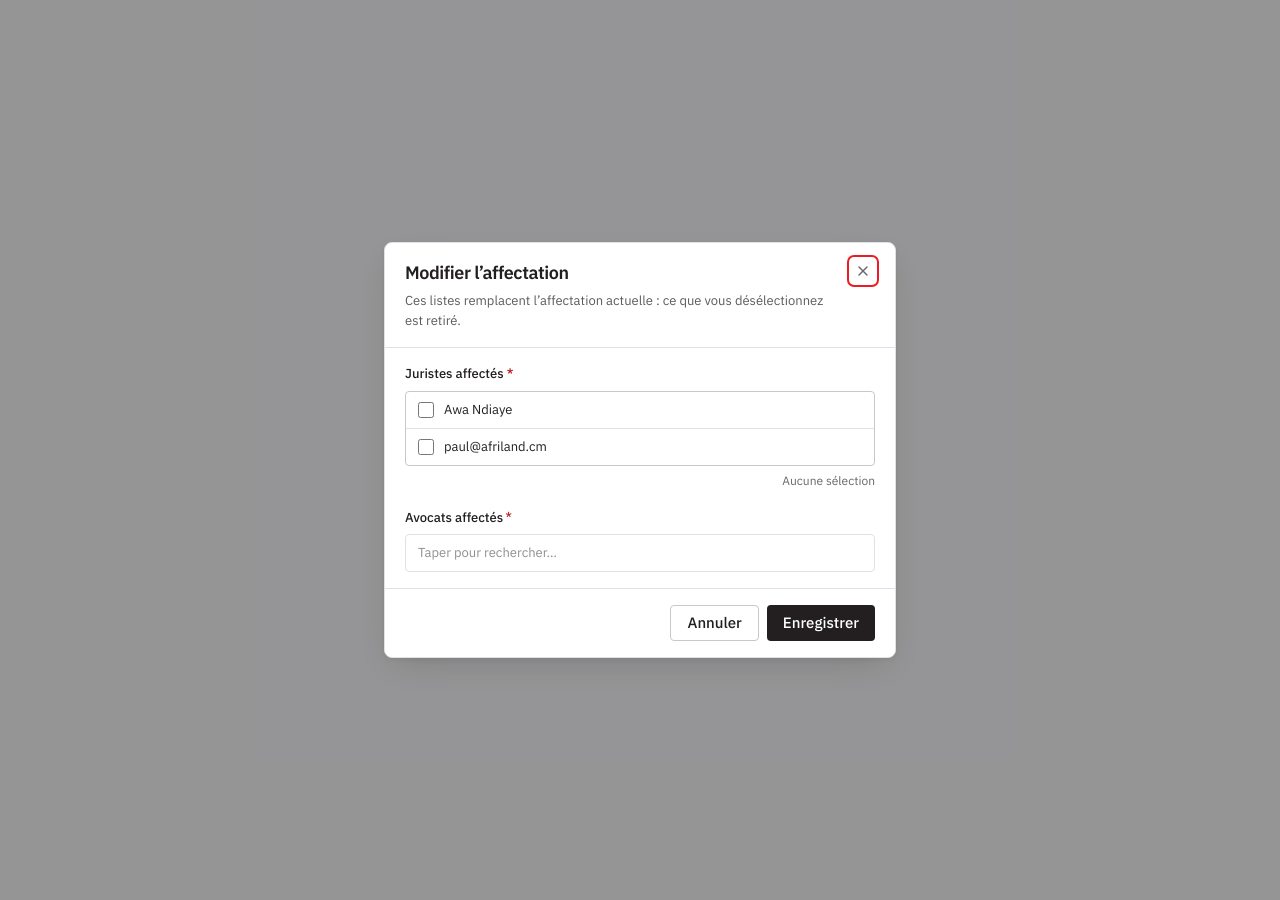
Test: ModaleAffectation › exige au moins un juriste et un avocat
Click the button "Enregistrer".
click(821, 623)  # box [767,605,875,641]
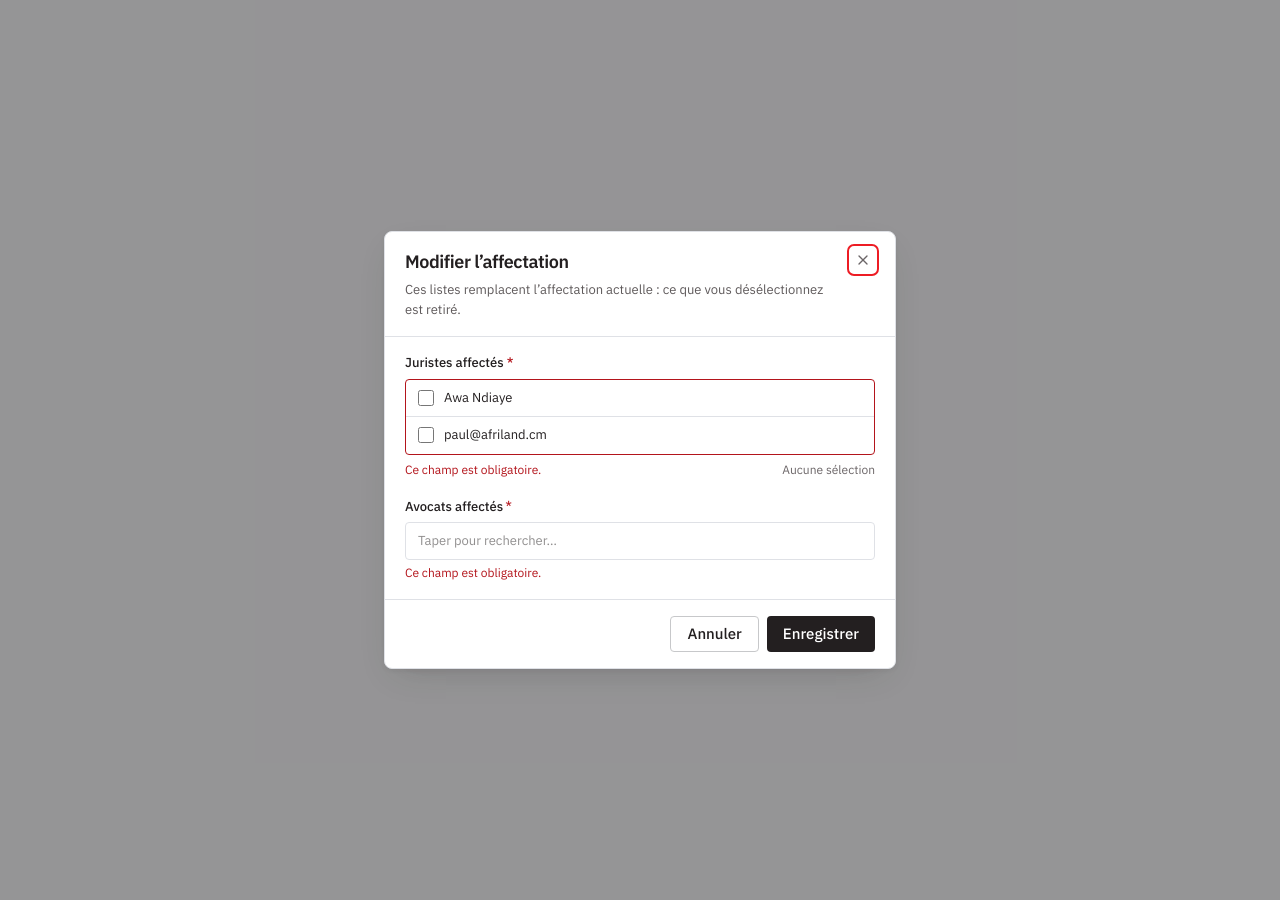
Check: the text "Ce champ est obligatoire." is shown 2 times, box [405,460,541,479]; [405,566,541,580]
